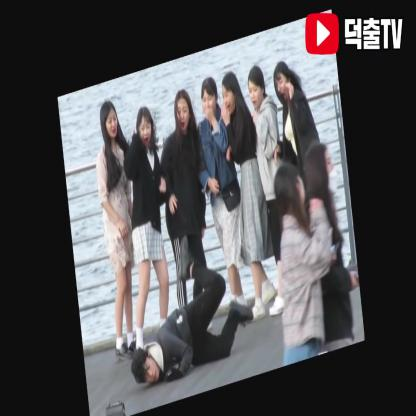Fall_Down: (129, 230, 256, 396)
